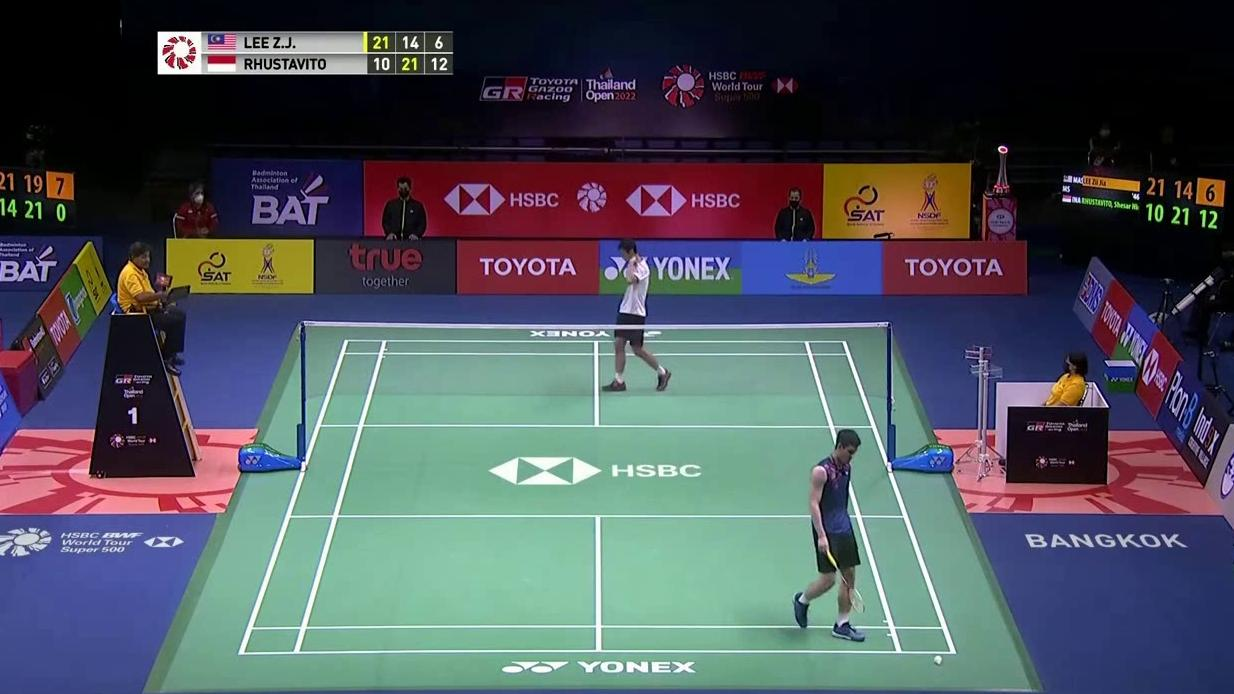racket: (821, 545, 868, 616)
shuttle: (931, 652, 947, 669)
